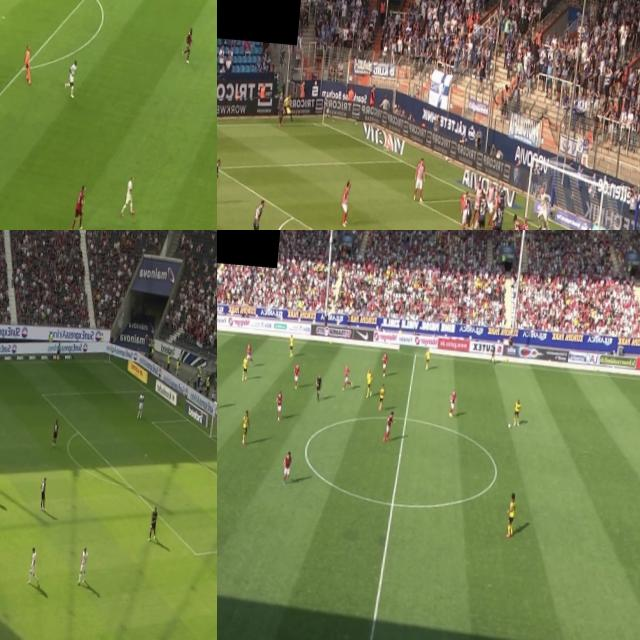ball: (506, 420, 512, 430)
player: (69, 183, 87, 230), (120, 172, 136, 219), (339, 180, 353, 230), (144, 503, 160, 546), (536, 183, 550, 230), (412, 157, 427, 200), (472, 180, 486, 223), (504, 493, 518, 536), (249, 195, 266, 230), (74, 546, 88, 588), (180, 23, 195, 62), (27, 544, 39, 586), (22, 43, 34, 84), (279, 448, 292, 484), (484, 180, 496, 218), (239, 408, 251, 446), (64, 61, 76, 98), (382, 410, 395, 444), (487, 206, 505, 230), (476, 197, 488, 230), (36, 474, 48, 507), (458, 191, 468, 230), (463, 195, 473, 230), (50, 417, 61, 448), (512, 394, 522, 427), (376, 382, 386, 414), (364, 366, 373, 400), (340, 362, 350, 392), (448, 386, 458, 416), (135, 390, 145, 419), (277, 95, 285, 129), (507, 211, 521, 230), (274, 388, 282, 419), (240, 354, 249, 381), (380, 348, 388, 378), (499, 183, 506, 217), (292, 362, 300, 388), (217, 160, 221, 207), (518, 215, 530, 230), (245, 339, 252, 362), (424, 344, 430, 370), (288, 332, 294, 356)
